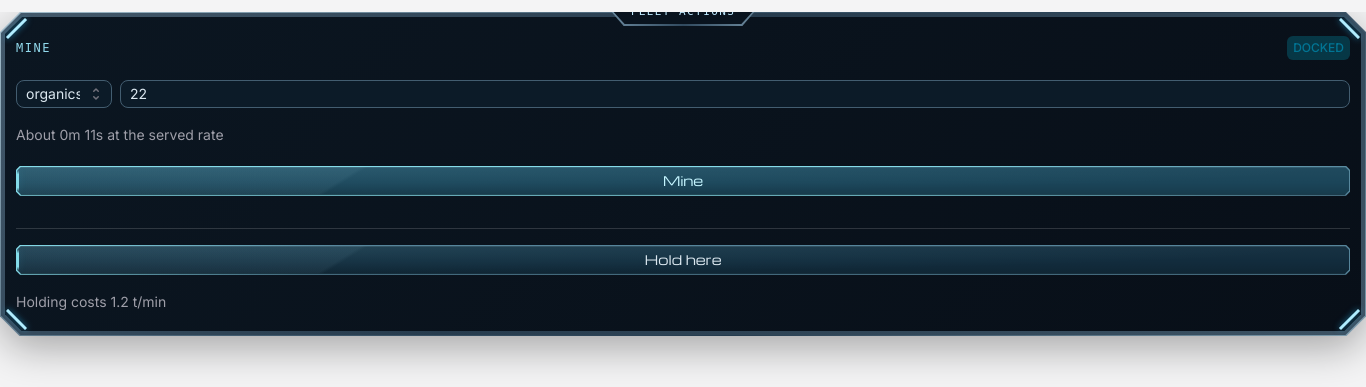
Test: FleetActionsPanel — the mine offer › Scenario: Tonnage input clamps to free hold
Replace the text in the number field with test id "mine-tons-input" with "9999": point(735, 94) [120,80,1350,108]
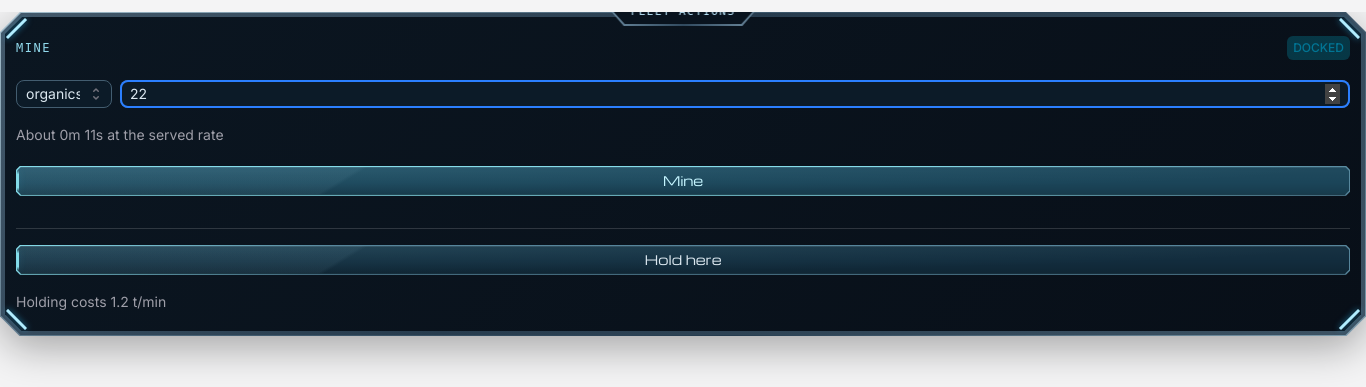
expect the number field with test id "mine-tons-input" holds "22": met, box [120,80,1350,108]
